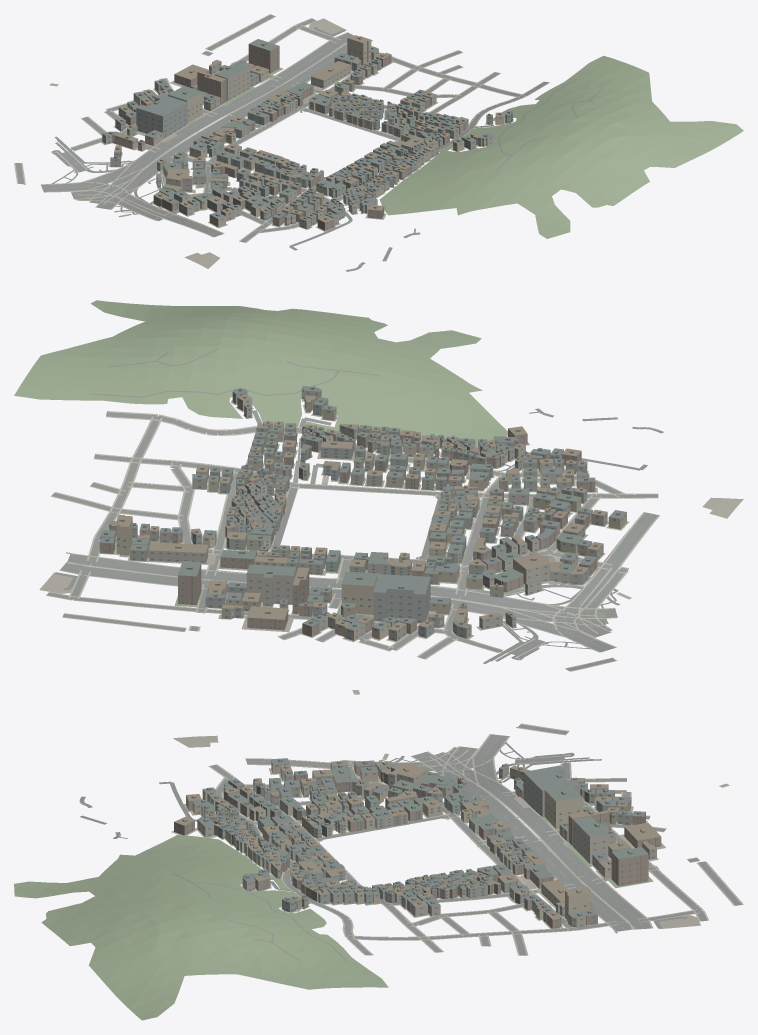
3 renders of one model, top to bottom at view 1: azimuth 30°, elevation 25°; view 2: azimuth 150°, elevation 25°; view 3: azimuth 270°, elevation 25°, orthographic. The views are drawn at different scales.
Visible parts, largest first — view 1: context-osm-buildings, context-building-plinths, context-osm-roads, context-osm-sidewalks; view 2: context-osm-buildings, context-building-plinths, context-osm-roads, context-osm-sidewalks; view 3: context-osm-buildings, context-building-plinths, context-osm-roads, context-osm-sidewalks.
Boxes of the visible parts, <box> form: context-osm-buildings: <box>102,35,512,230</box>; context-building-plinths: <box>50,18,743,268</box>; context-osm-roads: <box>15,14,604,271</box>; context-osm-sidewalks: <box>14,14,549,242</box>; context-osm-buildings: <box>99,386,626,641</box>; context-building-plinths: <box>14,300,743,694</box>; context-osm-roads: <box>47,348,663,671</box>; context-osm-sidewalks: <box>46,411,659,671</box>; context-osm-buildings: <box>174,758,661,929</box>; context-building-plinths: <box>14,735,729,1020</box>; context-osm-roads: <box>79,724,741,962</box>; context-osm-sidewalks: <box>208,723,743,955</box>.
Bounding box in the file's own units: 682 × 62.79 × 632.
